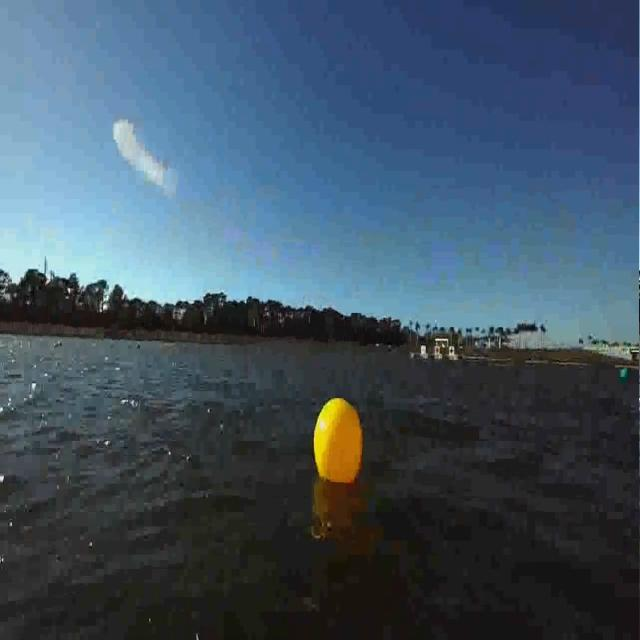yellow-buoy: (314, 397, 365, 487)
